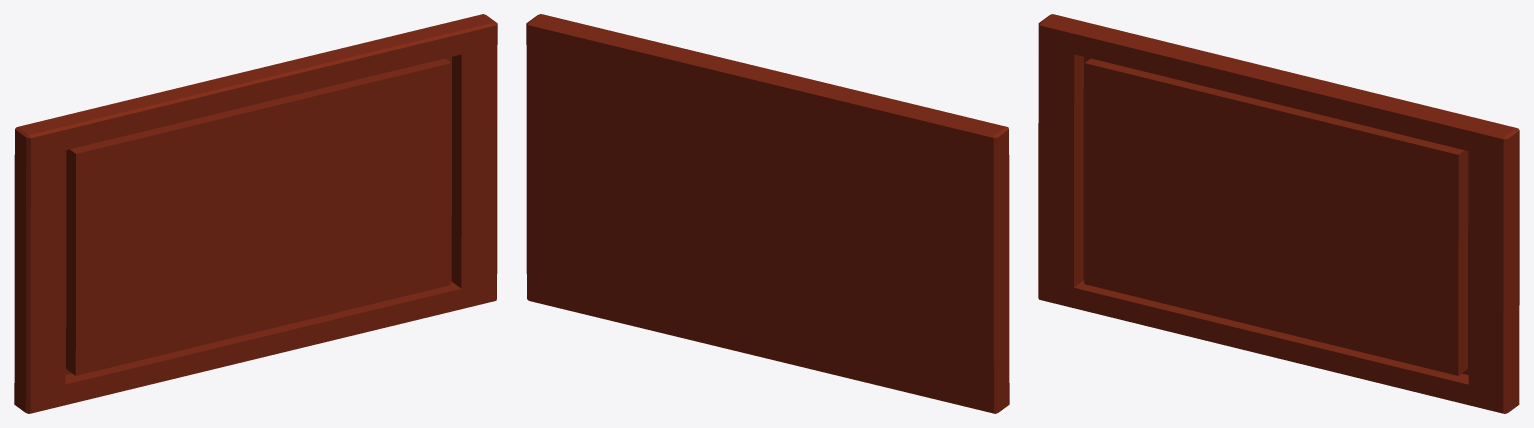
The model's file is Board.obj.
The picture shows the model from 3 angles, left to right: view 1: azimuth 30°, elevation 25°; view 2: azimuth 150°, elevation 25°; view 3: azimuth 330°, elevation 25°; orthographic projection.
Bounding box in the file's own units: 0.6207 × 0.3514 × 0.0336.
